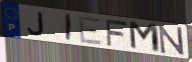E: (77, 15, 104, 47)
F: (104, 18, 129, 48)
I: (64, 13, 73, 43)
J: (26, 11, 46, 37)
M: (127, 20, 163, 55)
N: (157, 25, 186, 57)
